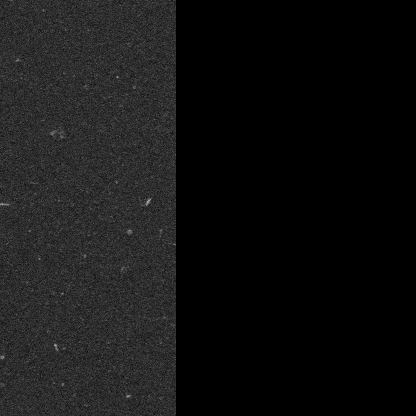cell2surface: (0, 200, 12, 238)
